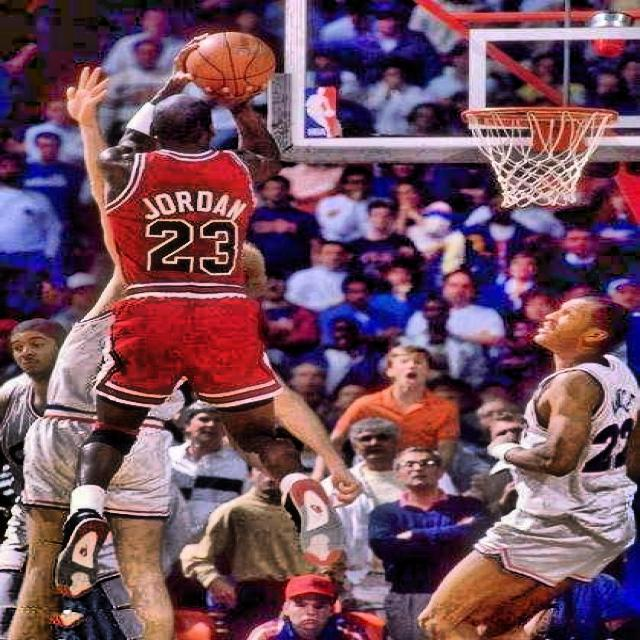board: (185, 31, 276, 100)
rim: (453, 107, 616, 207)
